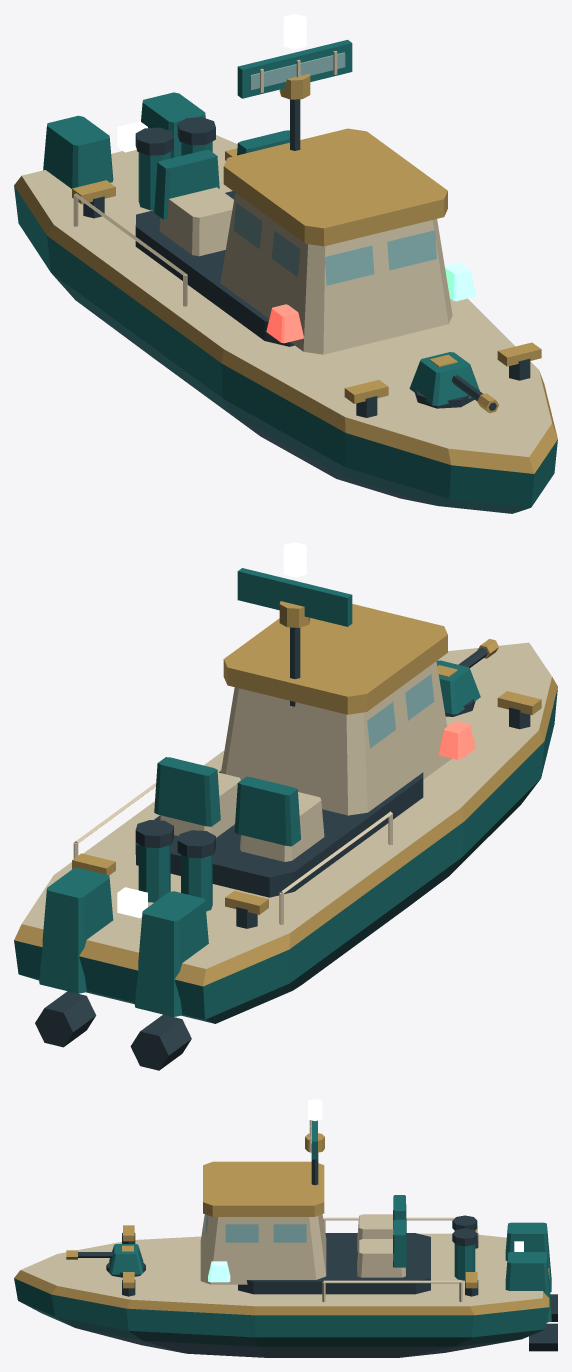
Rendered from speedboat-player.glb.
The picture shows the model from 3 angles, top to bottom: view 1: azimuth 30°, elevation 25°; view 2: azimuth 150°, elevation 25°; view 3: azimuth 270°, elevation 25°; orthographic projection. The views are drawn at different scales.
Parts seen in each view (by area): view 1: hull, radar, funnel, turret, port_light, starboard_light, mast_light, barrel; view 2: hull, funnel, radar, turret, port_light, mast_light, stern_light; view 3: hull, funnel, turret, radar, starboard_light, barrel.
Boxes of the visible parts, left/top/right/bottom form: hull: left=14, top=92, right=557, bottom=513; radar: left=237, top=39, right=352, bottom=99; funnel: left=135, top=117, right=215, bottom=210; turret: left=409, top=352, right=479, bottom=408; port_light: left=266, top=304, right=303, bottom=343; starboard_light: left=444, top=262, right=475, bottom=301; mast_light: left=283, top=14, right=306, bottom=48; barrel: left=452, top=375, right=498, bottom=413; hull: left=14, top=604, right=557, bottom=1070; funnel: left=135, top=820, right=215, bottom=911; radar: left=237, top=568, right=352, bottom=627; turret: left=436, top=660, right=480, bottom=716; port_light: left=438, top=721, right=475, bottom=759; mast_light: left=283, top=542, right=306, bottom=577; stern_light: left=117, top=887, right=147, bottom=918; hull: left=14, top=1153, right=557, bottom=1357; funnel: left=452, top=1215, right=477, bottom=1280; turret: left=106, top=1244, right=145, bottom=1277; radar: left=305, top=1120, right=324, bottom=1159; starboard_light: left=208, top=1261, right=230, bottom=1282; barrel: left=66, top=1250, right=112, bottom=1259.
Bounding box in the file's own units: 1.27 × 1.85 × 3.92.
